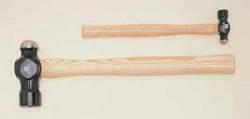hammer: (12, 38, 237, 108), (78, 7, 231, 44)
